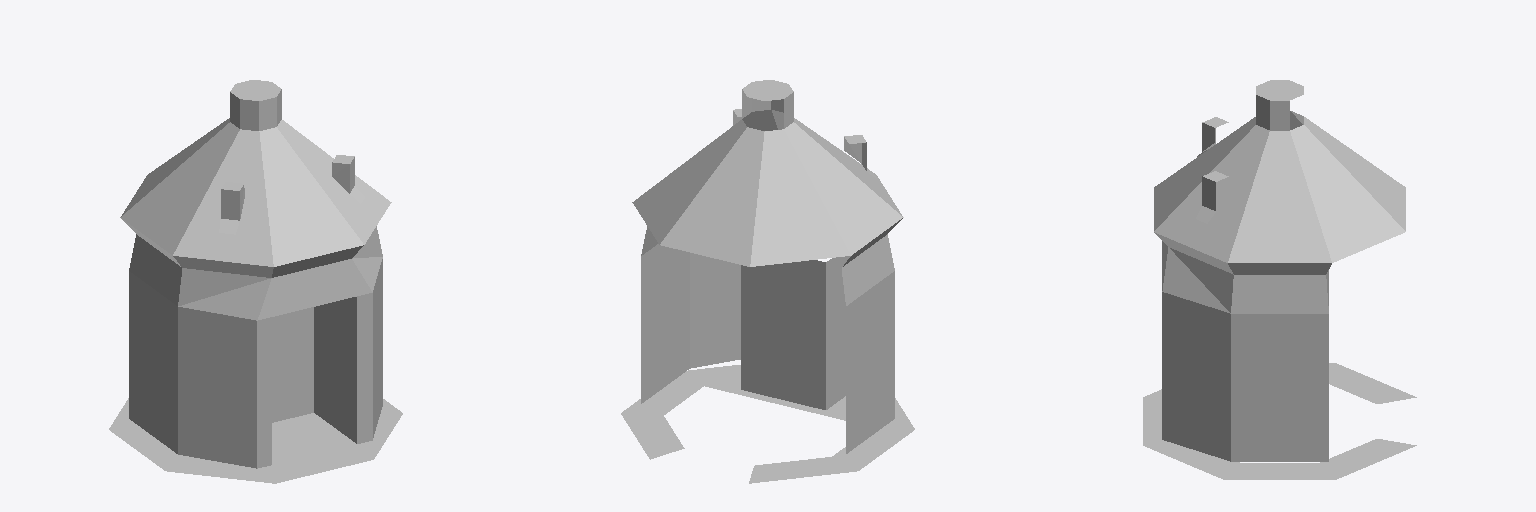
File: Driftveil City Booth.obj
3 renders of one model, left to right at view 1: azimuth 30°, elevation 25°; view 2: azimuth 150°, elevation 25°; view 3: azimuth 270°, elevation 25°, orthographic.
Parts seen in each view (by area): view 1: polygon2, polygon1, polygon0; view 2: polygon2, polygon1, polygon0; view 3: polygon1, polygon2, polygon0.
Boxes of the visible parts, x1,y1,x2,y2 form: polygon2: [120, 80, 391, 464]; polygon1: [129, 226, 382, 468]; polygon0: [109, 398, 402, 483]; polygon2: [632, 80, 903, 409]; polygon1: [641, 226, 894, 453]; polygon0: [621, 365, 914, 483]; polygon1: [1162, 241, 1328, 461]; polygon2: [1154, 80, 1405, 274]; polygon0: [1143, 363, 1416, 479].
Bounding box in the file's own units: 50.47 × 67.09 × 50.47.